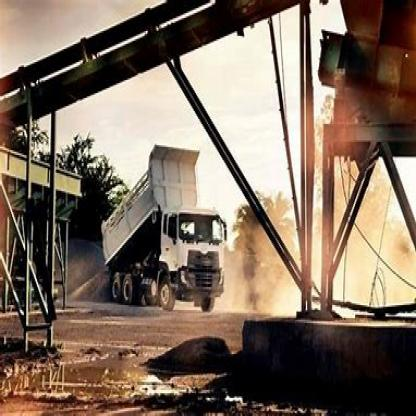dump_truck: (92, 130, 237, 326)
